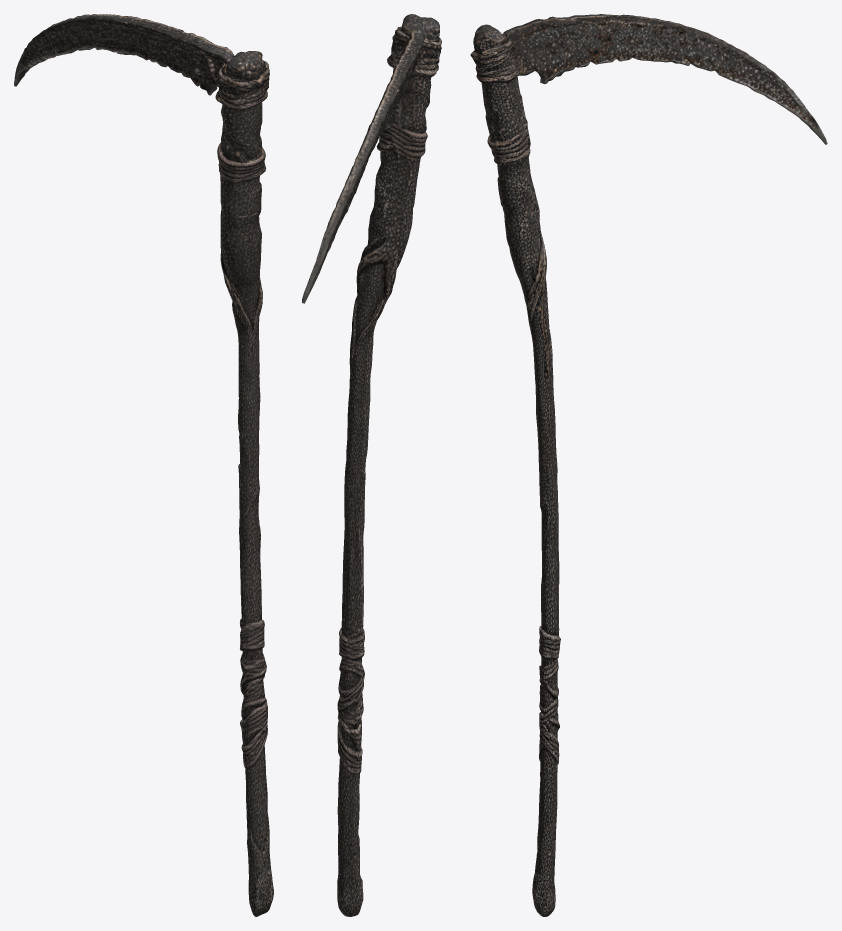
Rendered from scythe-fitted.glb.
3 views of the same model, side by side, from view 1: azimuth 30°, elevation 25°; view 2: azimuth 150°, elevation 25°; view 3: azimuth 270°, elevation 25° (orthographic). The views are drawn at different scales.
Visible parts, largest first — view 1: tripo_node_af79631f-82e0-464d-a860-eddbc04395c1; view 2: tripo_node_af79631f-82e0-464d-a860-eddbc04395c1; view 3: tripo_node_af79631f-82e0-464d-a860-eddbc04395c1.
Part boxes in pixels (box(x1,y1,x2,y2)): tripo_node_af79631f-82e0-464d-a860-eddbc04395c1: box(14, 14, 273, 916); tripo_node_af79631f-82e0-464d-a860-eddbc04395c1: box(302, 14, 441, 916); tripo_node_af79631f-82e0-464d-a860-eddbc04395c1: box(470, 14, 827, 916).
Bounding box in the file's own units: 0.4497 × 3.2 × 1.19.
1 material, 1 textured.
